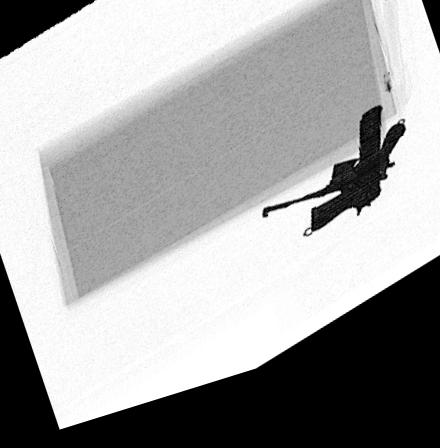Gun: (259, 146, 406, 234), (309, 127, 380, 251)
